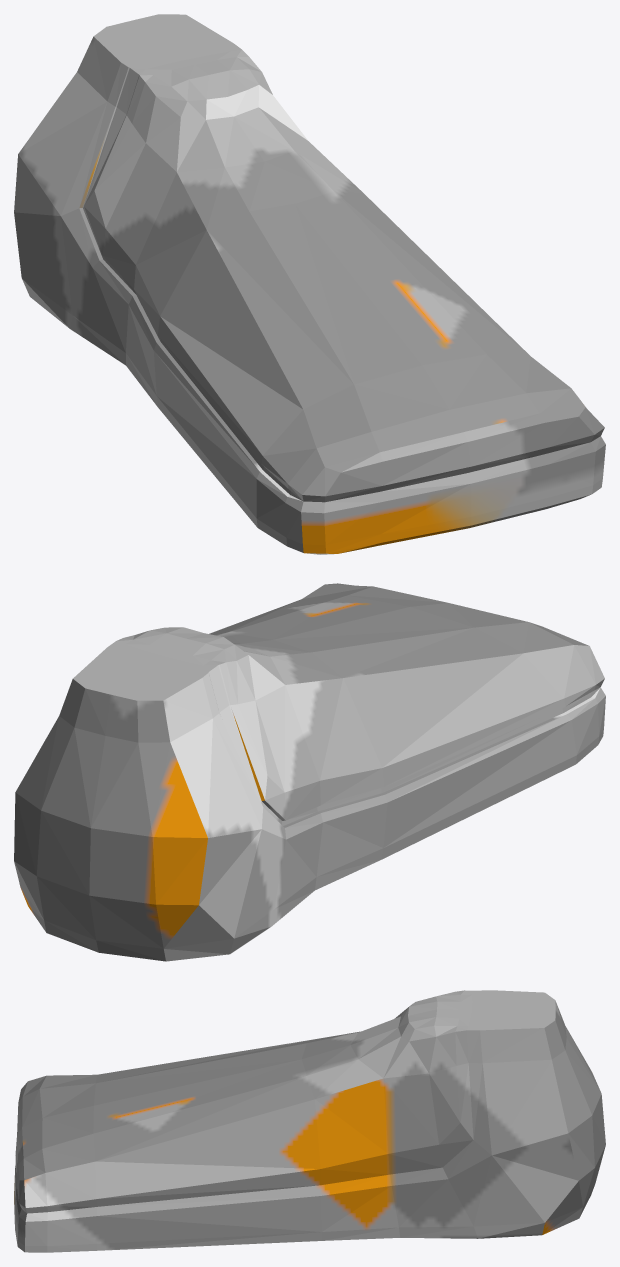
Rendered from RightFoot.obj.
The picture shows the model from 3 angles, top to bottom: view 1: azimuth 30°, elevation 25°; view 2: azimuth 150°, elevation 25°; view 3: azimuth 270°, elevation 25°; orthographic projection. The views are drawn at different scales.
Visible parts, largest first — view 1: RightFoot_Mesh.039; view 2: RightFoot_Mesh.039; view 3: RightFoot_Mesh.039.
Boxes of the visible parts, x1,y1,x2,y2 form: RightFoot_Mesh.039: [14, 14, 605, 554]; RightFoot_Mesh.039: [14, 583, 605, 961]; RightFoot_Mesh.039: [14, 990, 605, 1252].
Size of the model in its own units: 0.0952 by 0.0752 by 0.2037.
1 material, 1 textured.
